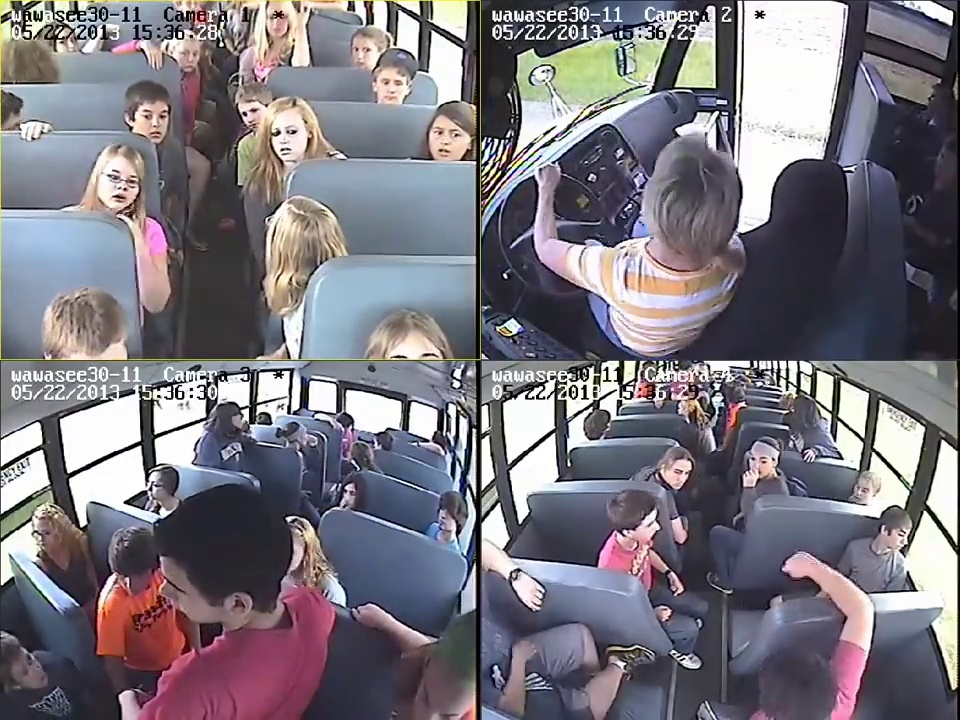face: (153, 549, 234, 627), (98, 156, 137, 208), (267, 112, 307, 159), (14, 646, 51, 695), (134, 101, 169, 138), (432, 121, 465, 159), (372, 70, 407, 105), (434, 505, 466, 532), (350, 35, 376, 66), (145, 473, 172, 502), (750, 449, 773, 481), (664, 460, 688, 489), (32, 519, 54, 549), (887, 525, 908, 555), (852, 478, 874, 504), (341, 481, 360, 507), (224, 410, 246, 430), (172, 57, 200, 72)
